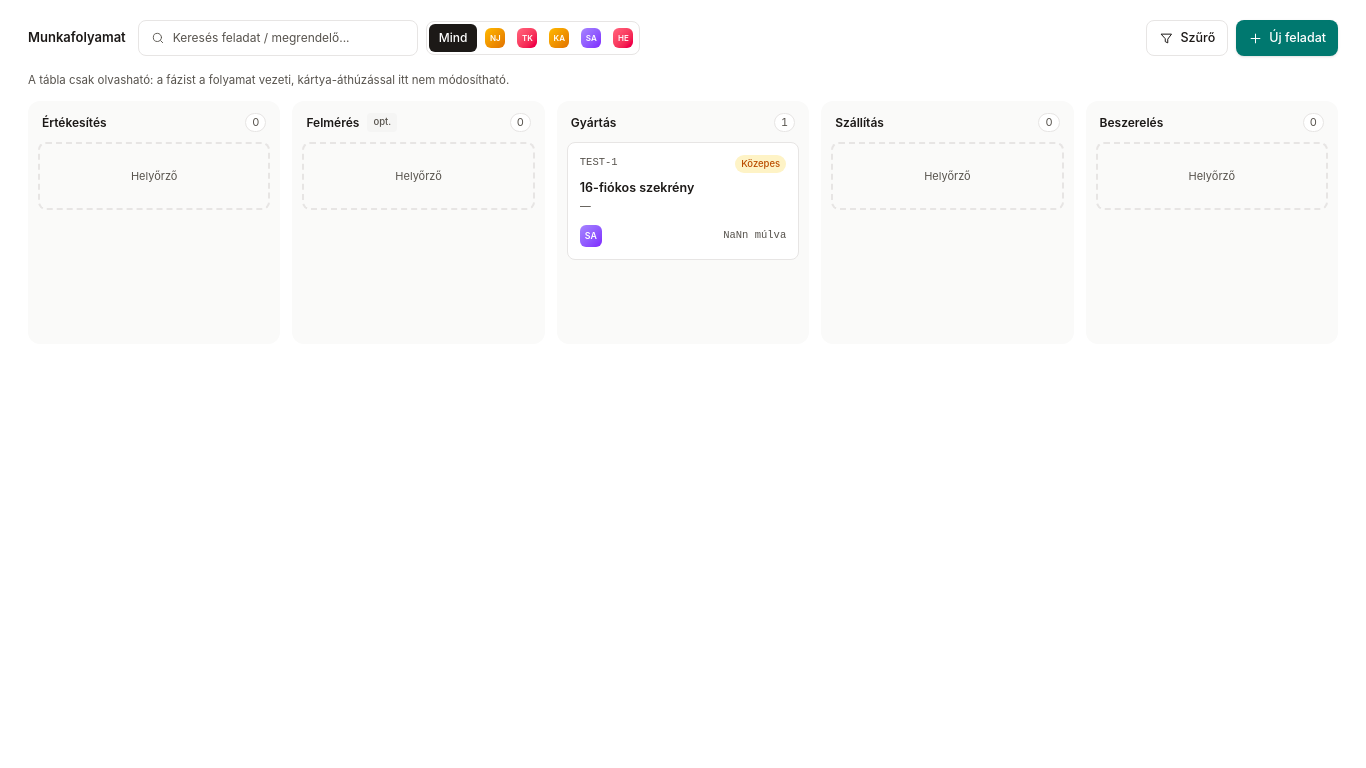
WorkflowPage › clicking Rendelés indítása opens NewOrderDrawer in POST mode
Click the text "16-fiókos szekrény" at [637, 188], box [580, 180, 694, 195]
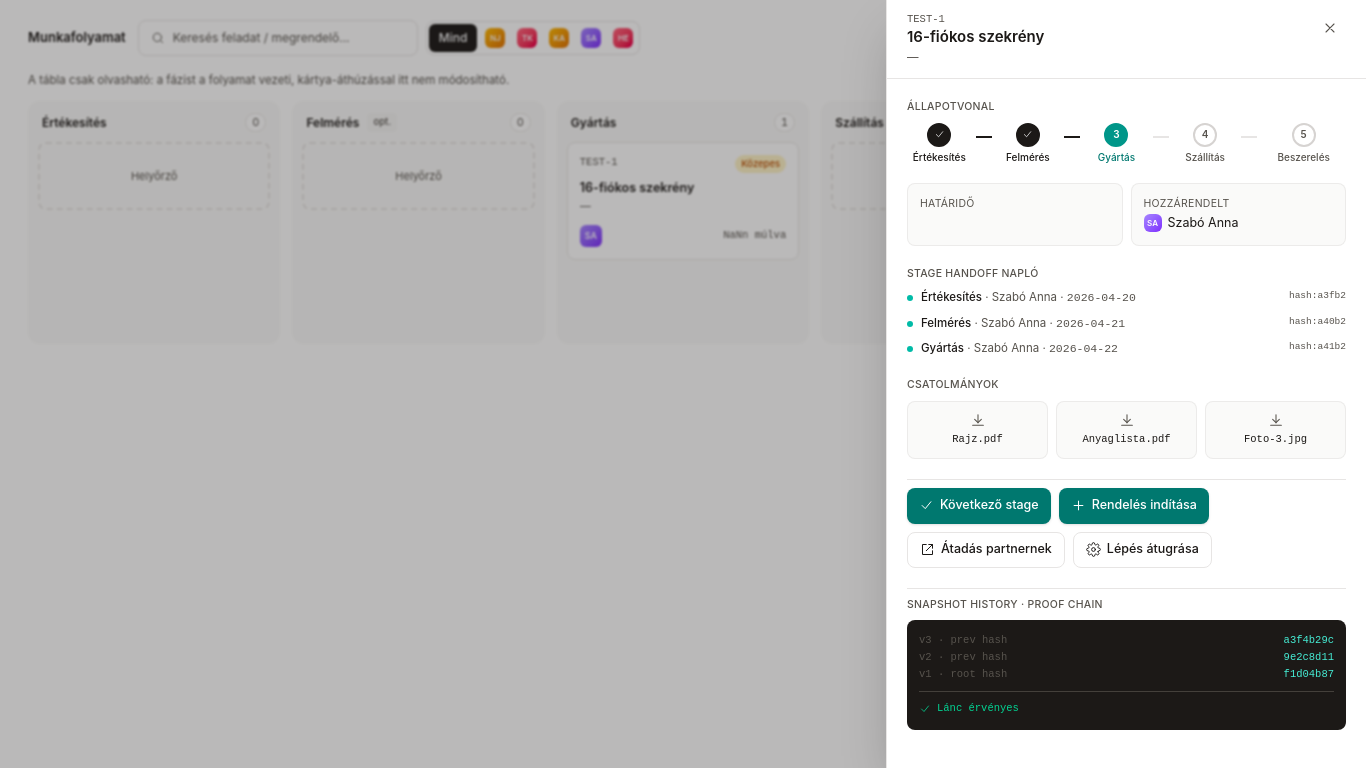
Click the button "Rendelés indítása" at [1134, 506], box [1059, 488, 1209, 524]
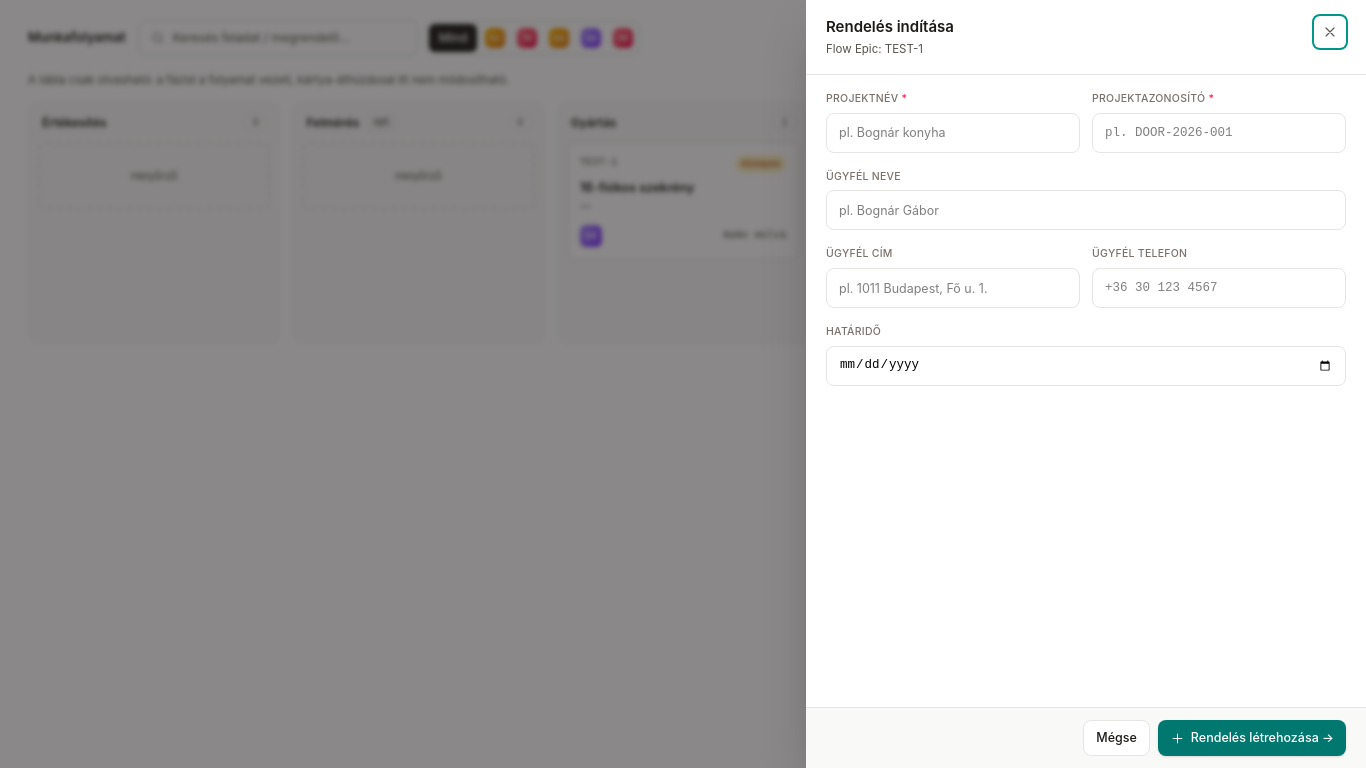
expect the button "Rendelés létrehozása →" is shown: met, box [1158, 720, 1346, 756]
